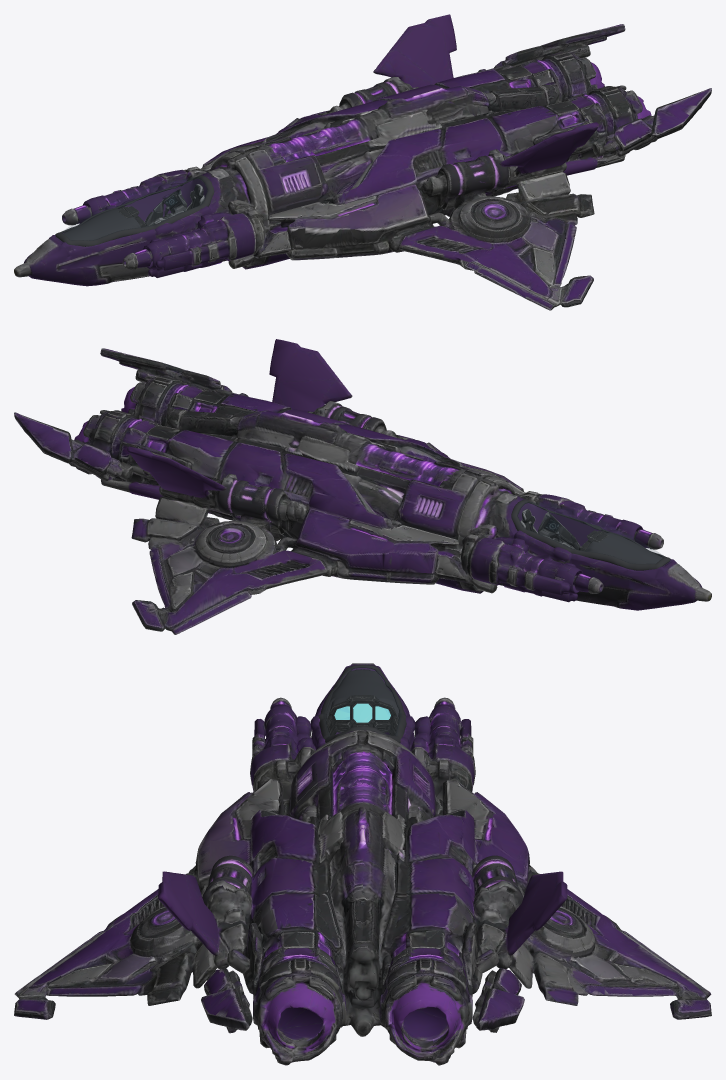
File: vortex.glb
The picture shows the model from 3 angles, top to bottom: view 1: azimuth 30°, elevation 25°; view 2: azimuth 150°, elevation 25°; view 3: azimuth 270°, elevation 25°; orthographic projection. The views are drawn at different scales.
Visible parts, largest first — view 1: vortex_game_hull, vortex_game_glass, vortex_game_canopy_frame, vortex_game_hood, vortex_game_cockpit, vortex_game_tub; view 2: vortex_game_hull, vortex_game_glass, vortex_game_canopy_frame, vortex_game_hood, vortex_game_cockpit, vortex_game_tub; view 3: vortex_game_hull, vortex_game_glass, vortex_game_console, vortex_game_hood, vortex_game_canopy_frame.
Boxes of the visible parts, x1,y1,x2,y2 form: vortex_game_hull: [14, 14, 711, 310]; vortex_game_glass: [61, 177, 207, 240]; vortex_game_canopy_frame: [55, 175, 214, 246]; vortex_game_hood: [63, 208, 140, 240]; vortex_game_cockpit: [144, 184, 204, 226]; vortex_game_tub: [62, 178, 207, 233]; vortex_game_hull: [14, 339, 711, 634]; vortex_game_glass: [517, 502, 664, 563]; vortex_game_canopy_frame: [511, 499, 670, 570]; vortex_game_hood: [586, 532, 662, 563]; vortex_game_cockpit: [520, 509, 580, 550]; vortex_game_tub: [518, 503, 601, 546]; vortex_game_hull: [14, 663, 711, 1065]; vortex_game_glass: [324, 666, 401, 735]; vortex_game_console: [326, 695, 398, 735]; vortex_game_hood: [326, 669, 398, 720]; vortex_game_canopy_frame: [318, 665, 406, 742].
Bounding box in the file's own units: 1.9 × 0.3489 × 1.3.
8 materials, 3 textured.
